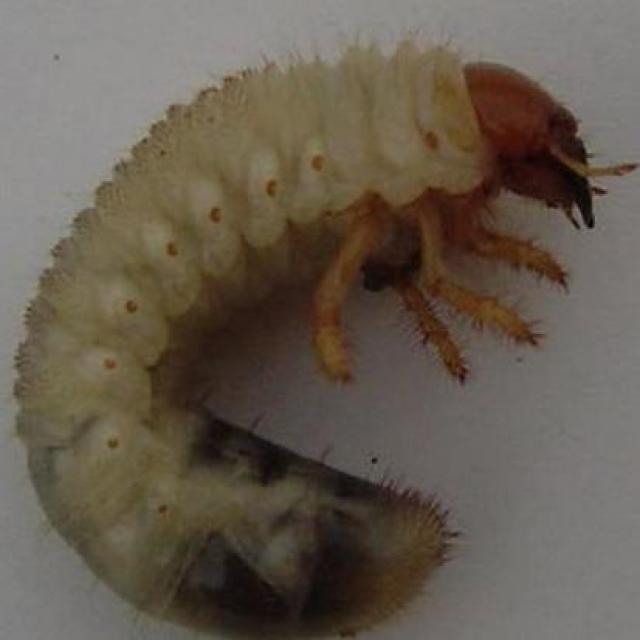Grub-Adult-: (10, 39, 612, 636)
